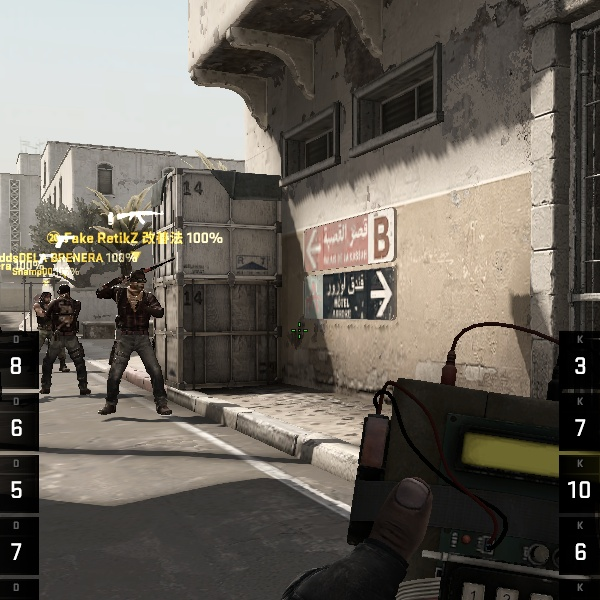t_body: (90, 269, 174, 420), (23, 275, 96, 396)
t_head: (117, 266, 151, 300)
